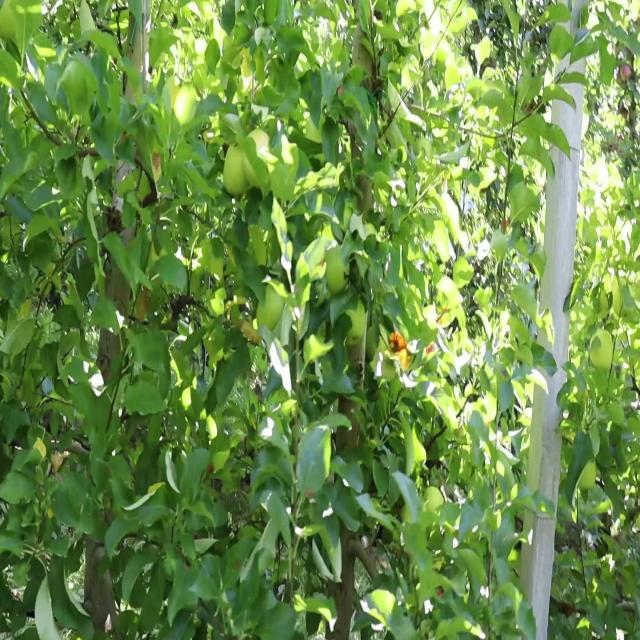apple: (244, 129, 272, 190), (223, 133, 244, 201), (258, 281, 286, 332), (325, 245, 350, 292), (590, 329, 613, 371), (175, 81, 196, 124), (346, 304, 365, 344), (424, 486, 443, 514), (578, 462, 596, 489)
